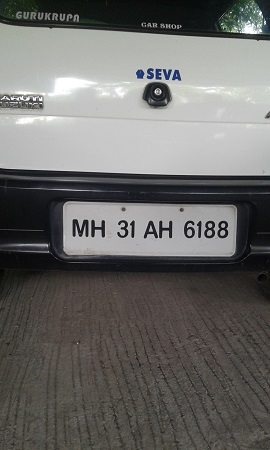licenseplate: (62, 198, 237, 258)
